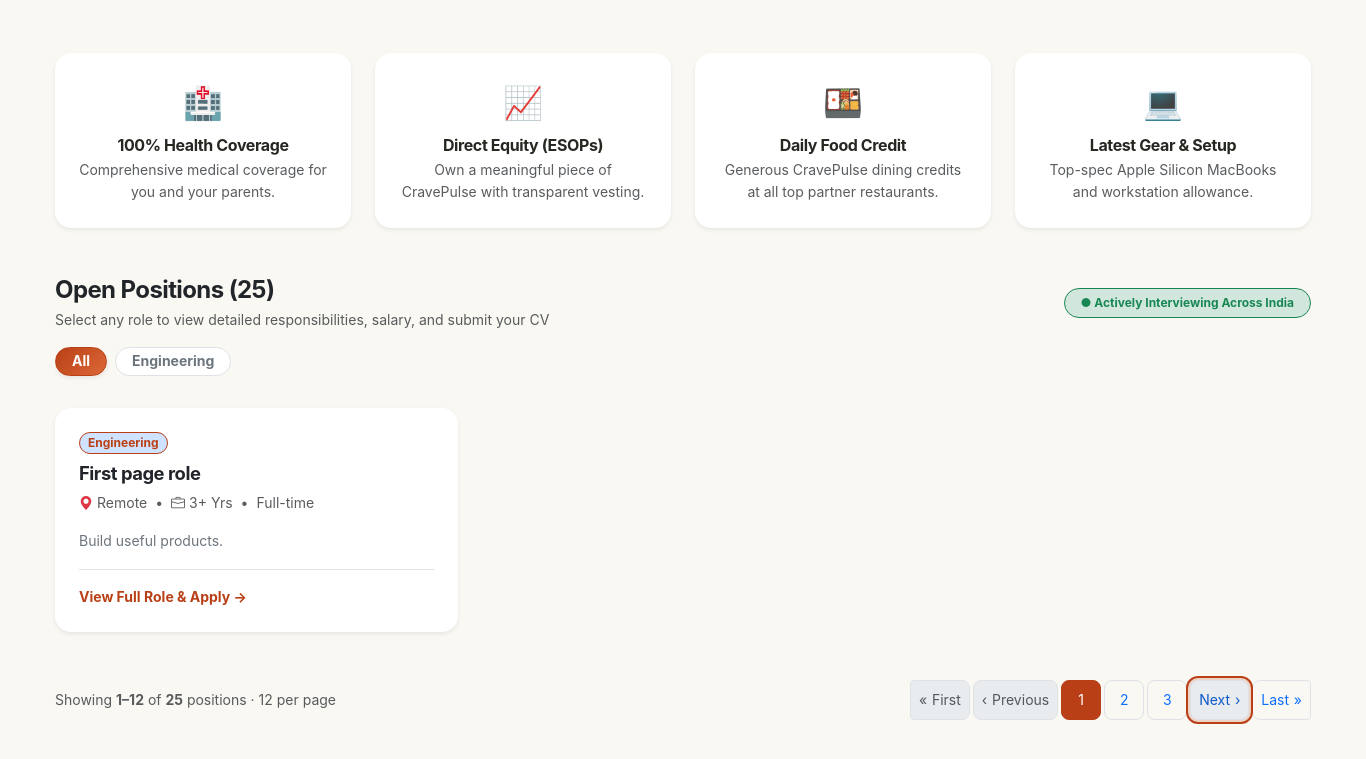
CareersPage pagination failures › restores the last successful page after a failed request and retries the attempted page
(page scrolled)
Check: the heading "First page role" is shown, box [79,462,200,484]
Click the button with aria-label "Next page". click: (1220, 700)
box: [1190,680,1249,720]
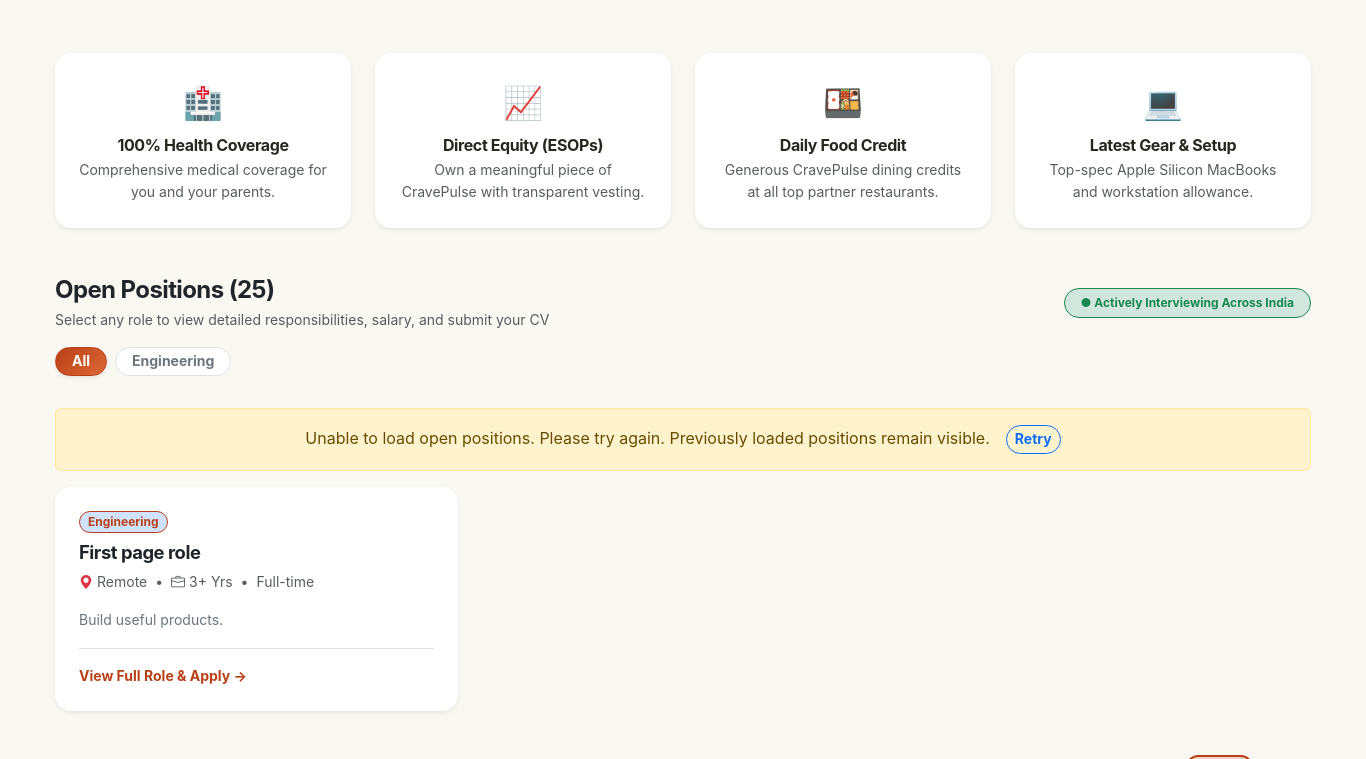
Check: the heading "First page role" is shown, box [79,541,200,563]
Check: the message is shown, box [55,408,1311,471]
Check: the button with aria-label "Retry loading open positions" is enabled
Click the button with aria-label "Retry loading open positions". click: (1033, 439)
box: [1006,425,1061,454]
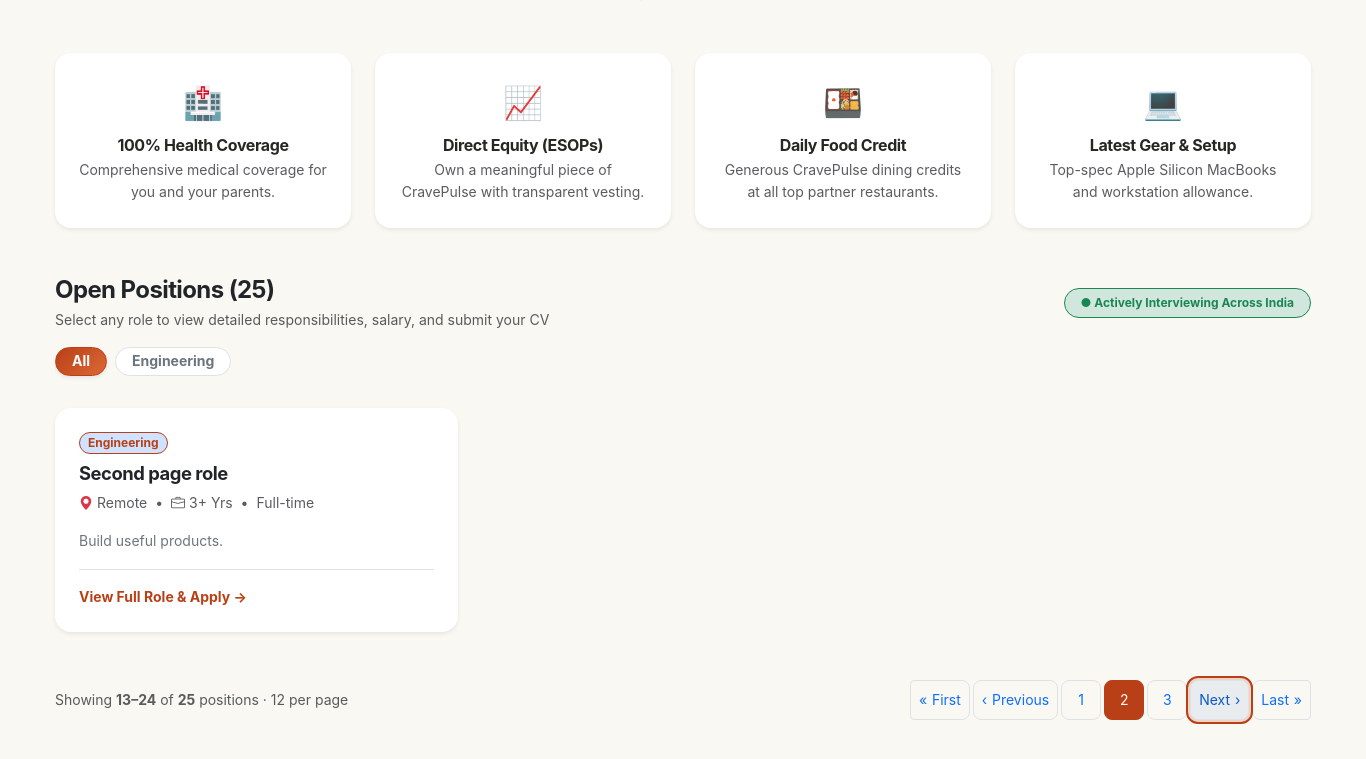
Check: the heading "Open Positions (25)" is shown, box [55,275,274,304]
Check: the heading "Second page role" is shown, box [79,462,228,484]
Check: the message is gone
